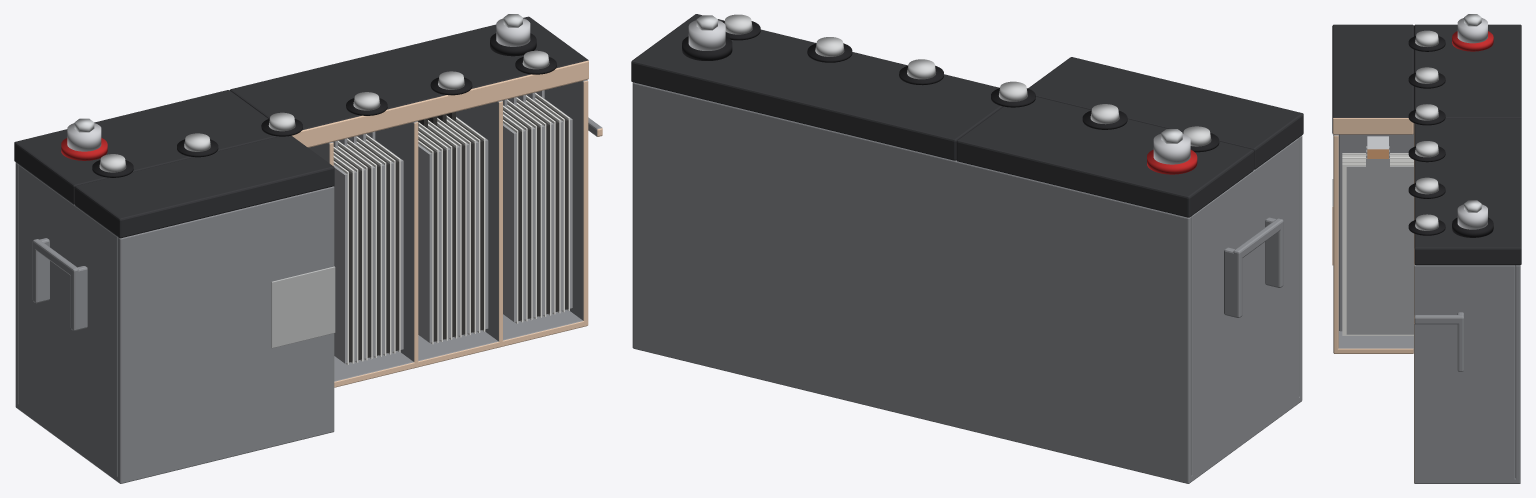
File: battery-cut.glb
3 views of the same model, side by side, from view 1: azimuth 30°, elevation 25°; view 2: azimuth 150°, elevation 25°; view 3: azimuth 270°, elevation 25° (orthographic). The views are drawn at different scales.
Parts seen in each view (by area): view 1: container, lid, plates_neg, separators, plates_pos, label, handles, term_post_neg, term_post_pos; view 2: container, lid, handles, term_post_pos, term_post_neg; view 3: lid, container, plates_neg, separators, handles, term_post_neg, term_post_pos, lead_straps, term_cap_neg, term_cap_pos, vent_cap1, vent_cap2 (+10 smaller).
Part boxes in pixels (x1=…): container: x1=15, y1=80, x2=588, y2=483; lid: x1=14, y1=16, x2=588, y2=238; plates_neg: x1=333, y1=90, x2=572, y2=363; separators: x1=333, y1=93, x2=569, y2=364; plates_pos: x1=333, y1=96, x2=568, y2=362; label: x1=271, y1=266, x2=335, y2=348; handles: x1=32, y1=117, x2=602, y2=330; term_post_neg: x1=496, y1=18, x2=530, y2=46; term_post_pos: x1=67, y1=123, x2=101, y2=151; container: x1=632, y1=82, x2=1302, y2=483; lid: x1=631, y1=14, x2=1303, y2=217; handles: x1=1224, y1=217, x2=1283, y2=318; term_post_pos: x1=1153, y1=133, x2=1190, y2=164; term_post_neg: x1=688, y1=20, x2=725, y2=50; lid: x1=1332, y1=24, x2=1521, y2=265; container: x1=1333, y1=134, x2=1520, y2=483; plates_neg: x1=1346, y1=146, x2=1413, y2=334; separators: x1=1342, y1=153, x2=1413, y2=335; handles: x1=1414, y1=312, x2=1463, y2=371; term_post_neg: x1=1457, y1=204, x2=1487, y2=229; term_post_pos: x1=1457, y1=18, x2=1487, y2=43; lead_straps: x1=1367, y1=136, x2=1388, y2=158; term_cap_neg: x1=1452, y1=217, x2=1493, y2=237; term_cap_pos: x1=1452, y1=31, x2=1493, y2=51; vent_cap1: x1=1415, y1=67, x2=1438, y2=83; vent_cap2: x1=1415, y1=104, x2=1438, y2=120.
Size of the model in its own units: 0.513 by 0.266 by 0.1742.
